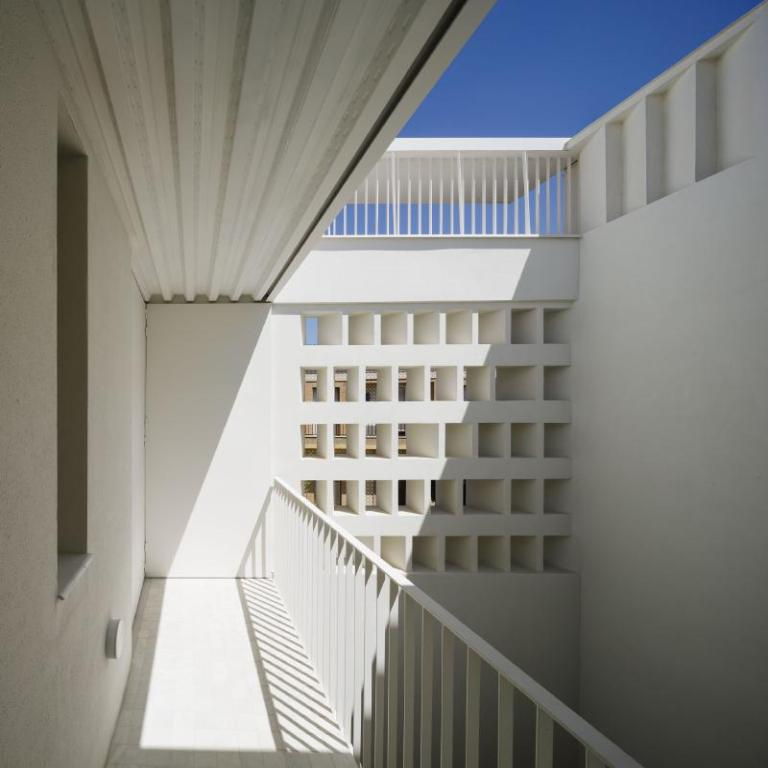white-walls: (478, 213, 748, 737)
